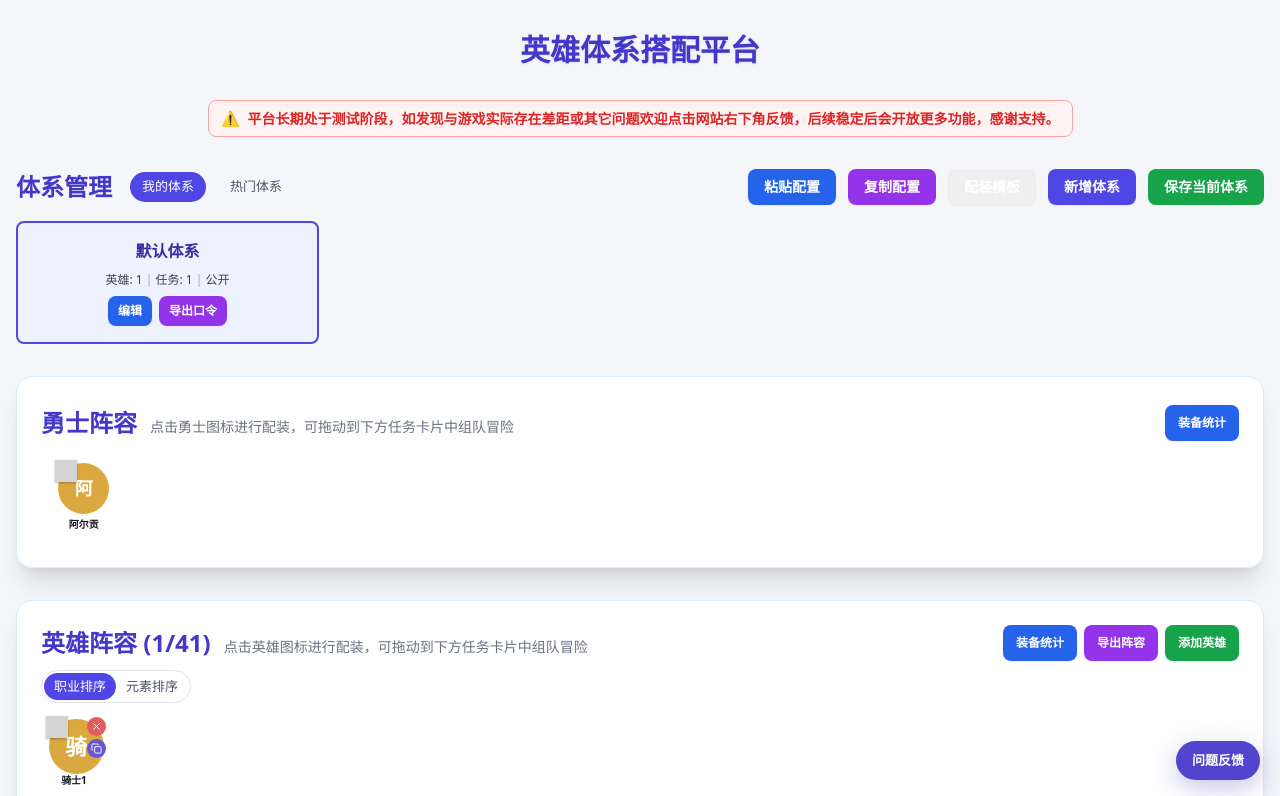
uses a public system from the offline collection as an editable private copy
expect the text "默认体系" is shown: met, box 136,240 -> 200,262
Click the button with aria-label "本地收藏": (256, 186) 218,172 -> 294,202
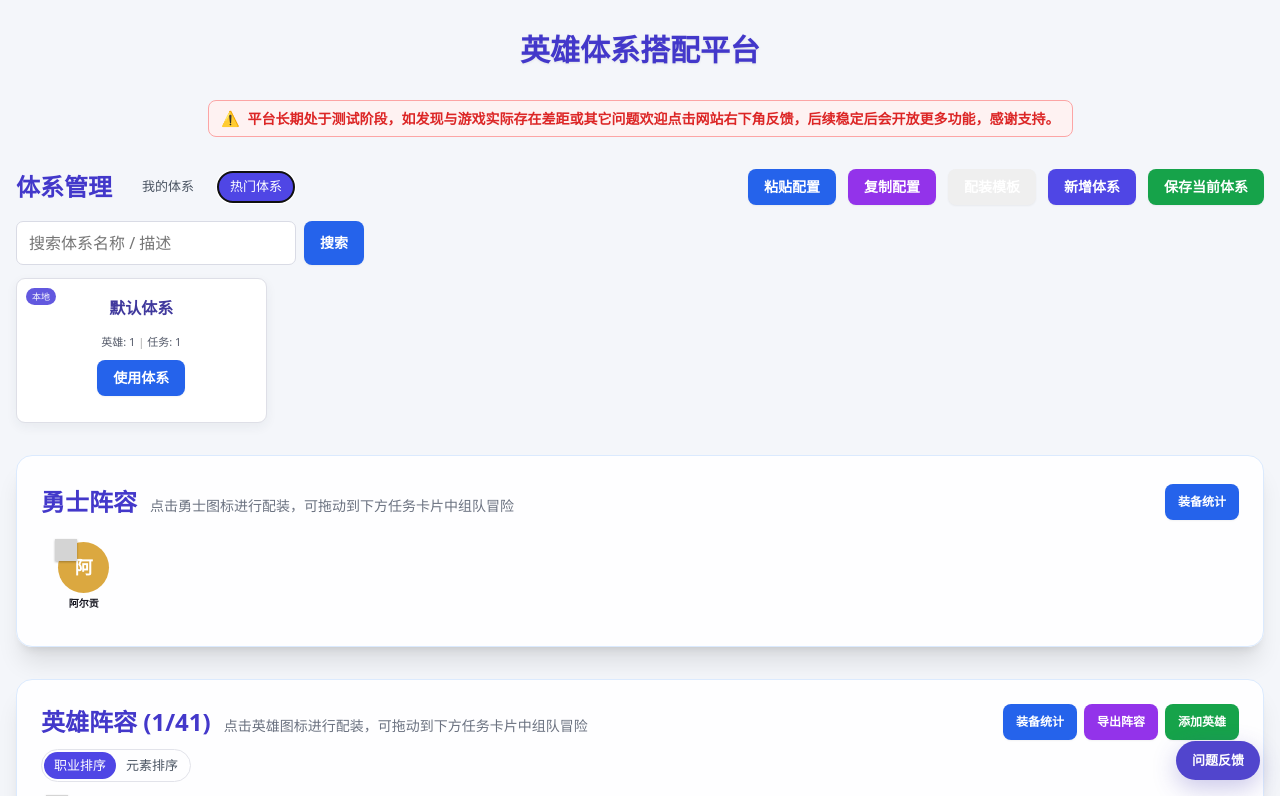
expect the field named "搜索本地收藏" is shown: met, box 16,220 -> 296,264
Click the button "使用体系": (141, 378) 97,360 -> 185,396
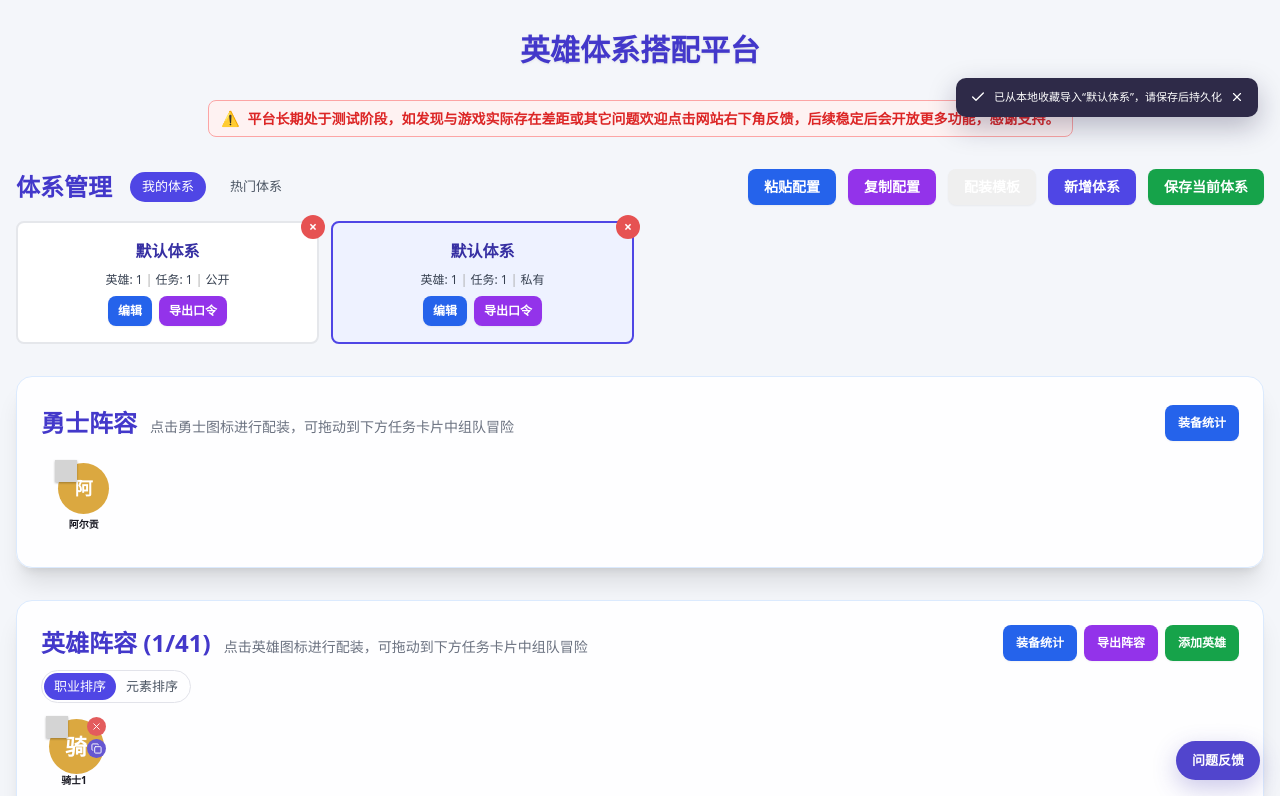
expect the 2nd text "默认体系" is shown: met, box 450,240 -> 514,262
expect the number of elements with class "online-system-card" is 2: met, box 16,220 -> 319,344; 331,220 -> 634,344
expect the element showing "英雄: 1 | 任务: 1 | 私有" is shown: met, box 420,270 -> 545,288
